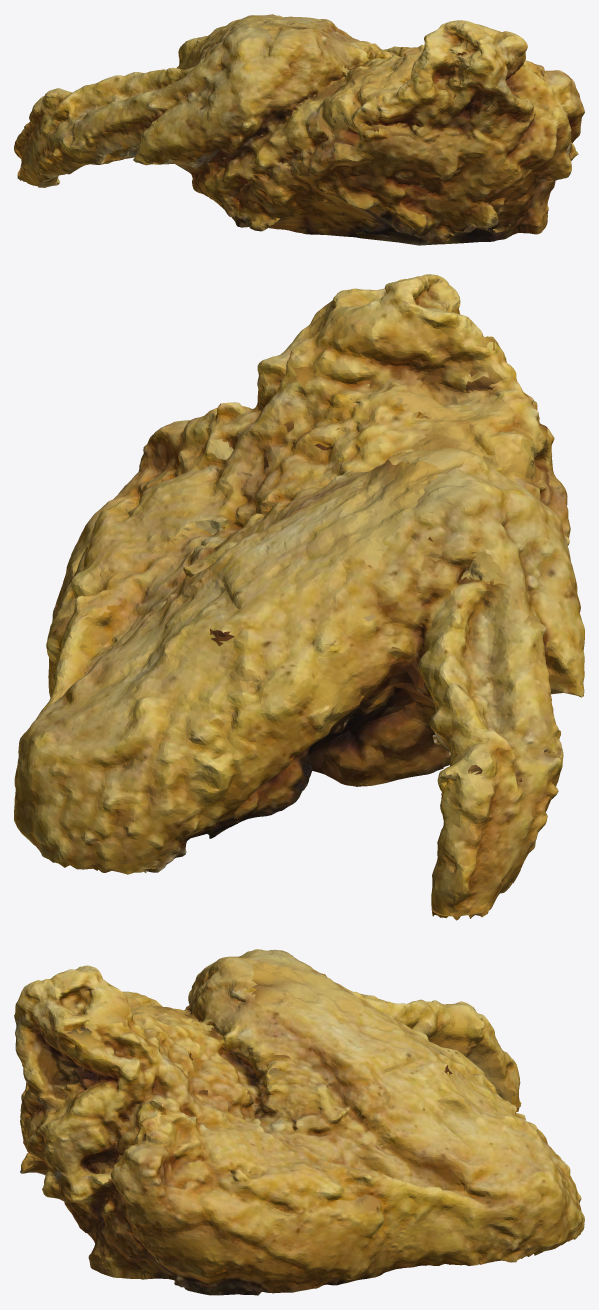
Rendered from chicken_android.glb.
3 views of the same model, one above another, from view 1: azimuth 30°, elevation 25°; view 2: azimuth 150°, elevation 25°; view 3: azimuth 270°, elevation 25° (orthographic). The views are drawn at different scales.
Visible parts, largest first — view 1: ChickenClean; view 2: ChickenClean; view 3: ChickenClean.
Part boxes in pixels (x1,y1,x2,y2): ChickenClean: (14, 14, 584, 245); ChickenClean: (14, 274, 584, 920); ChickenClean: (14, 949, 584, 1295).
Size of the model in its own units: 508284 by 280059 by 561292.
Materials: 1 (1 with a texture image).
